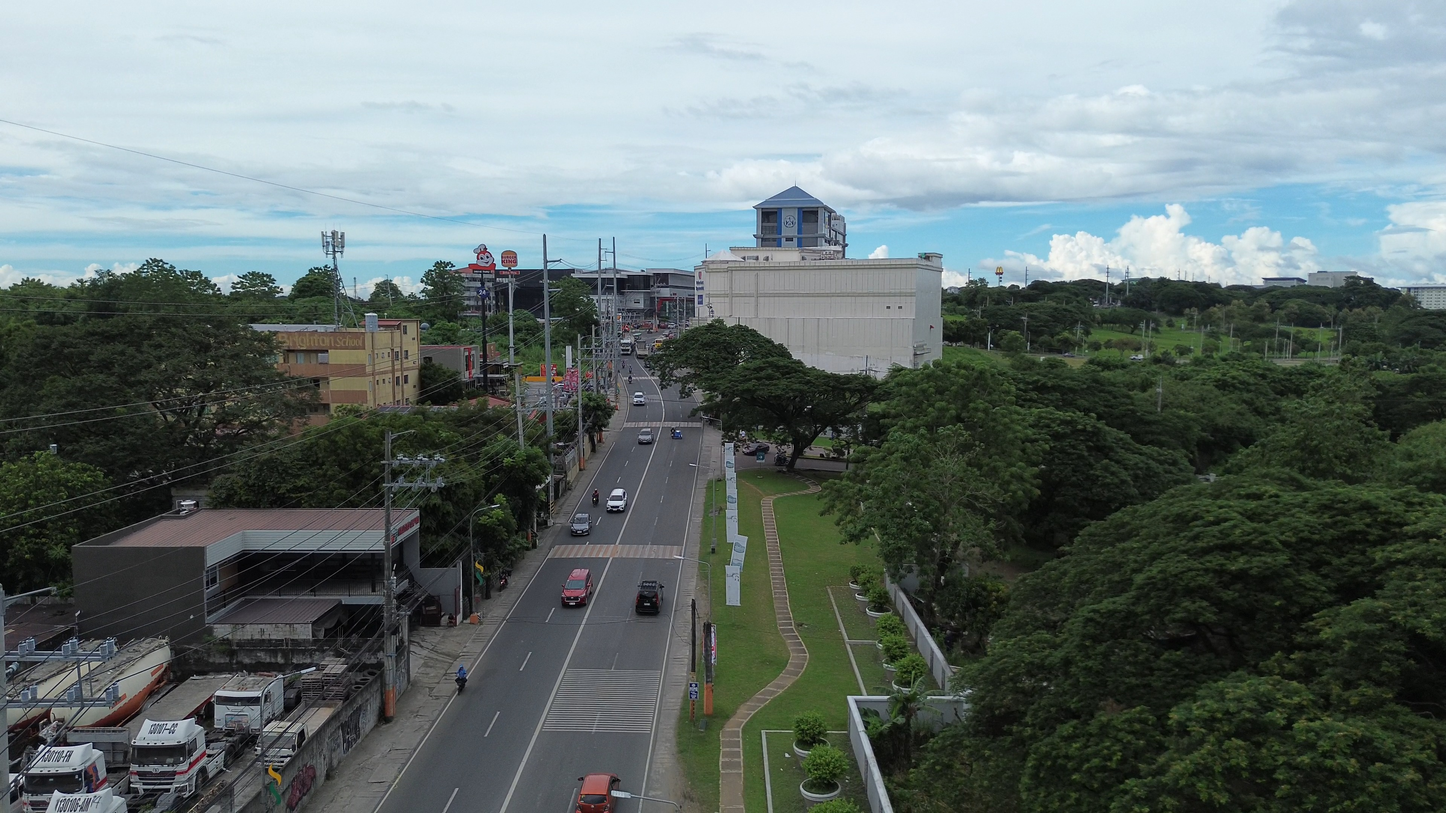car: (632, 392, 646, 405)
motorcycle: (455, 676, 467, 692), (592, 489, 599, 506)
vehicle: (5, 637, 172, 731), (131, 719, 225, 798), (21, 743, 108, 813), (255, 706, 334, 768), (213, 675, 284, 732), (31, 787, 128, 813), (575, 773, 620, 813), (561, 569, 592, 606), (635, 580, 664, 614), (606, 488, 627, 512), (570, 514, 591, 535), (741, 441, 769, 455), (619, 336, 633, 355), (638, 428, 654, 444), (1130, 354, 1144, 361)
